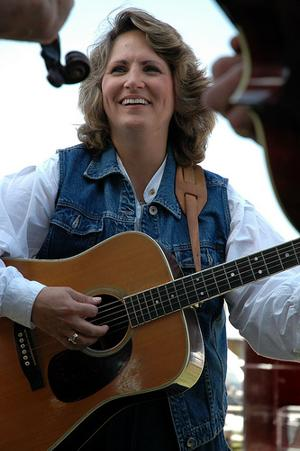person: (2, 10, 299, 449)
